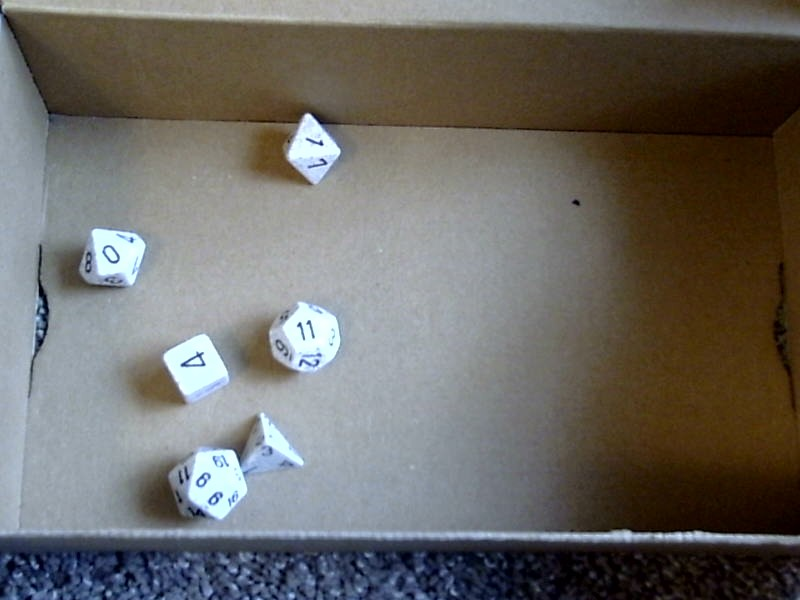d10 10: (67, 222, 150, 295)
d12 11: (264, 298, 343, 377)
d20 9: (158, 448, 246, 520)
d4 3: (238, 410, 306, 476)
d6 4: (159, 331, 230, 405)
d8 1: (275, 110, 345, 189)
